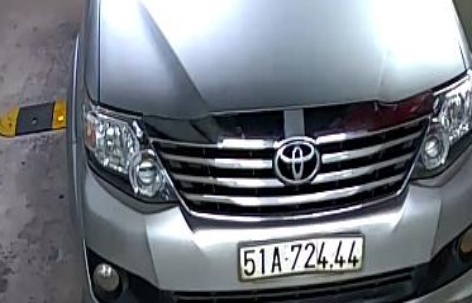plate: (234, 229, 371, 284)
